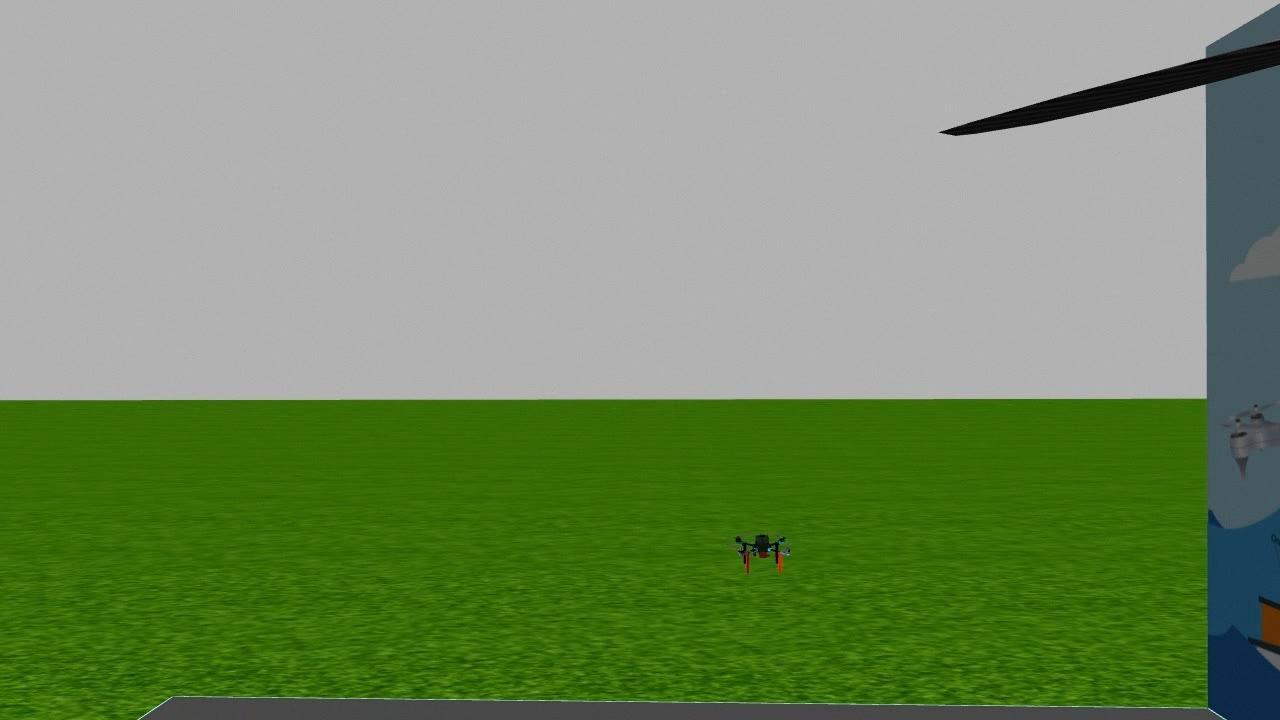UAV: (709, 518, 815, 587)
